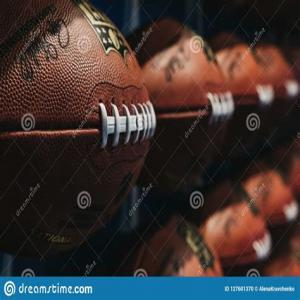Rugby: (0, 0, 156, 256), (124, 20, 233, 187), (205, 30, 274, 151), (196, 179, 272, 270), (135, 211, 224, 276), (234, 163, 298, 234), (262, 44, 300, 129)
